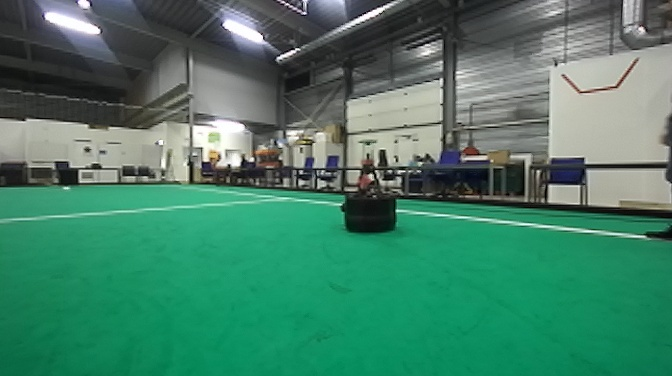robot: (335, 135, 405, 234)
